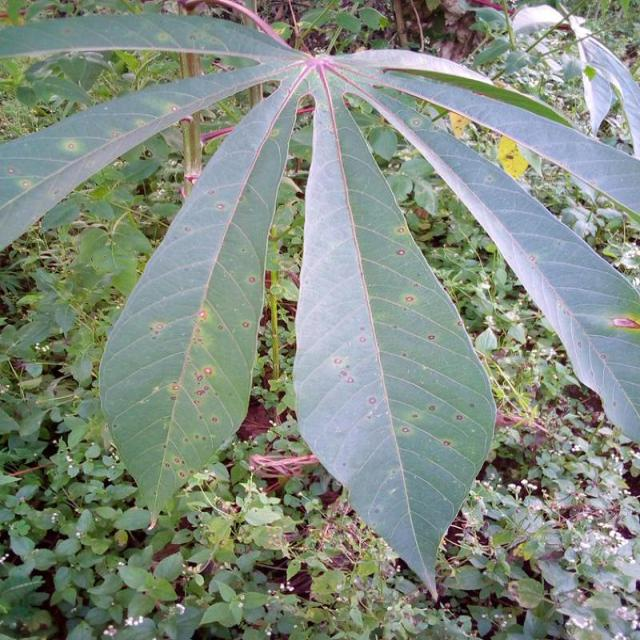cassava leaf: (1, 5, 638, 598), (291, 61, 498, 602), (97, 68, 302, 530)
